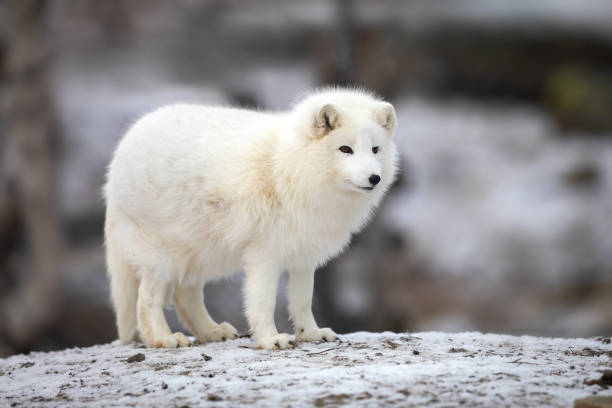arcticfox: (310, 91, 401, 216)
